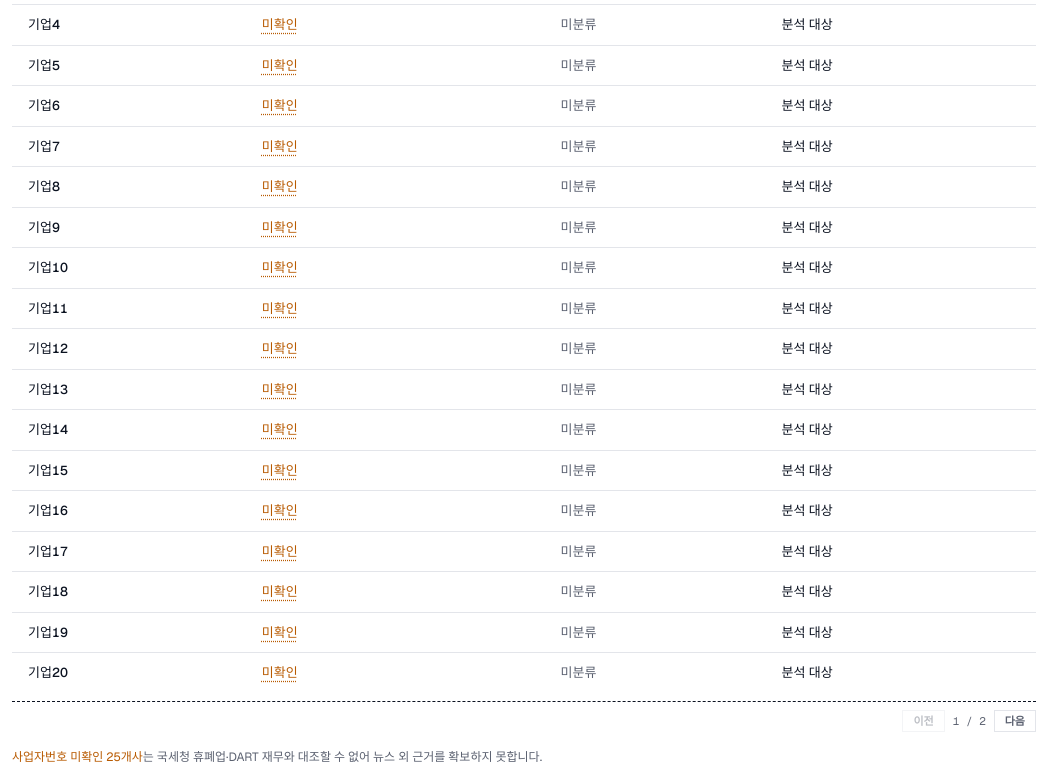
Test: CompanyTable › pages twenty companies at a time
This screenshot has width=1048, height=768.
(page scrolled)
Expected: the text "1 / 2" is shown, [953,712,986,729]
Step 1. Click the button "다음" → (1015, 721), box [994,710,1036,732]
(page scrolled)
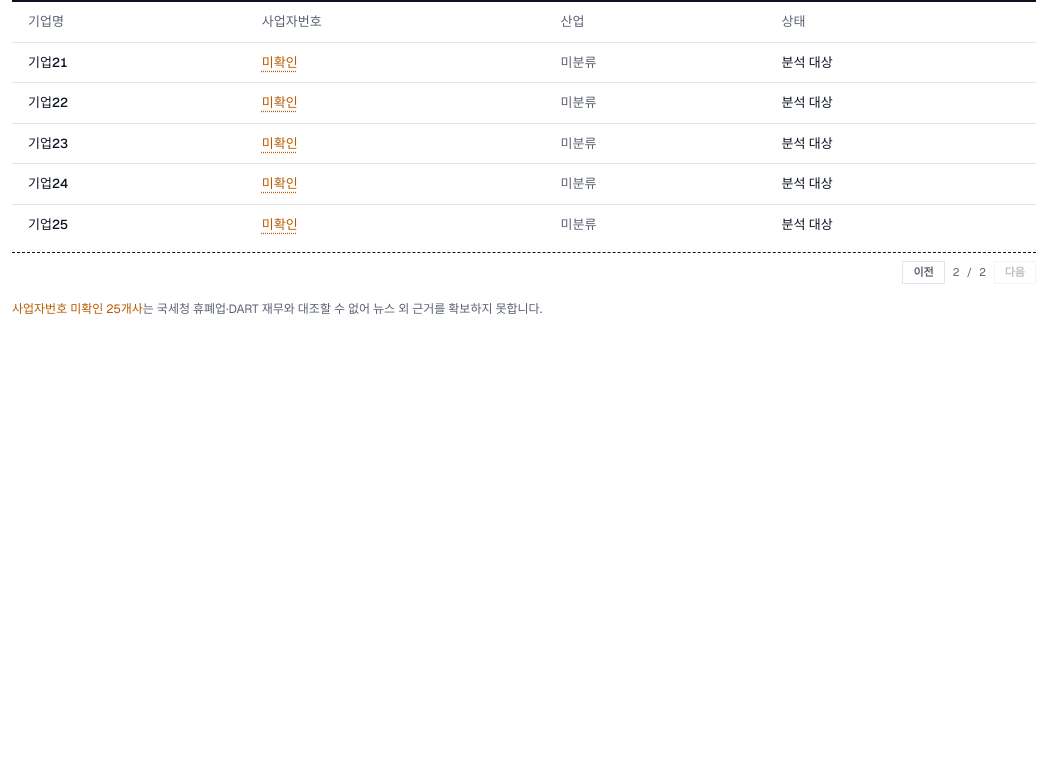
Now the number of rows is 6, box [12,2,1036,42]; [12,42,1036,82]; [12,82,1036,123]; [12,123,1036,164]; [12,164,1036,204]; [12,204,1036,244]
